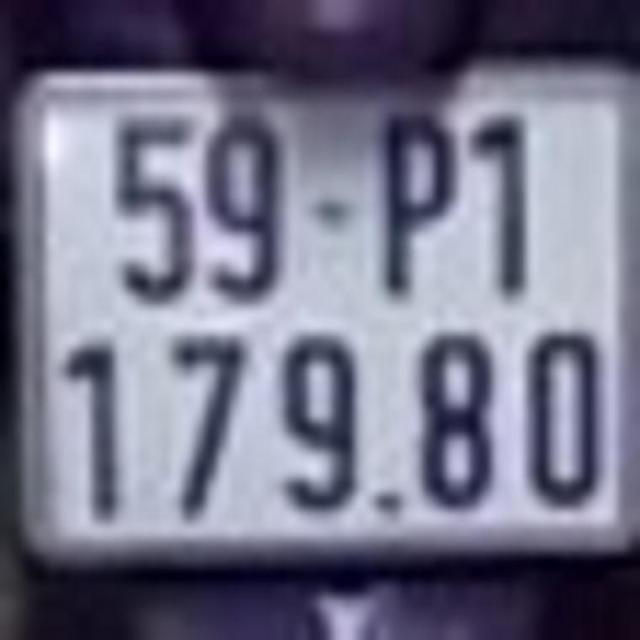0: (519, 324, 603, 506)
1: (59, 328, 128, 522), (469, 107, 531, 295)
5: (108, 112, 200, 300)
7: (160, 329, 244, 521)
8: (413, 326, 496, 511)
9: (274, 327, 362, 512), (206, 111, 286, 308)
P: (374, 108, 461, 296)
